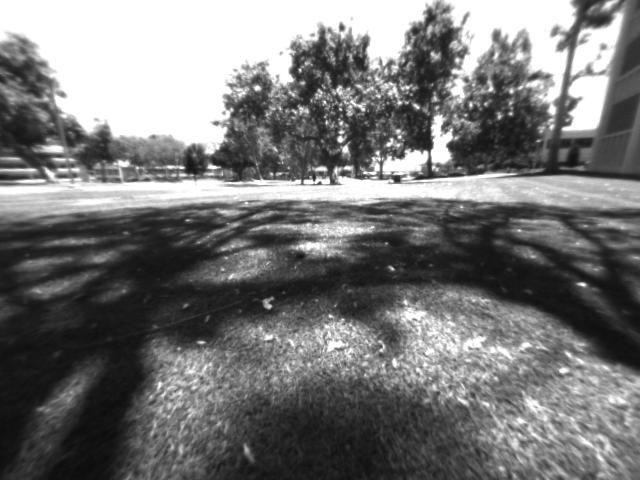dogtoy: (286, 241, 315, 263)
